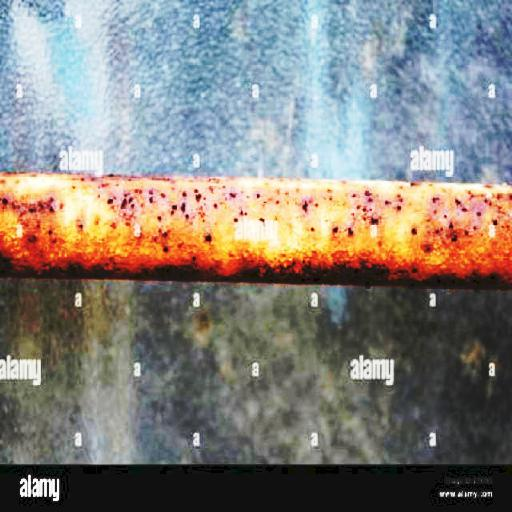corrosion: (0, 175, 512, 284)
